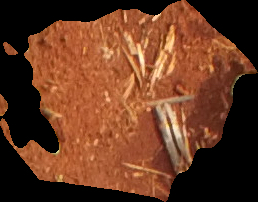soil: (1, 2, 257, 199)
